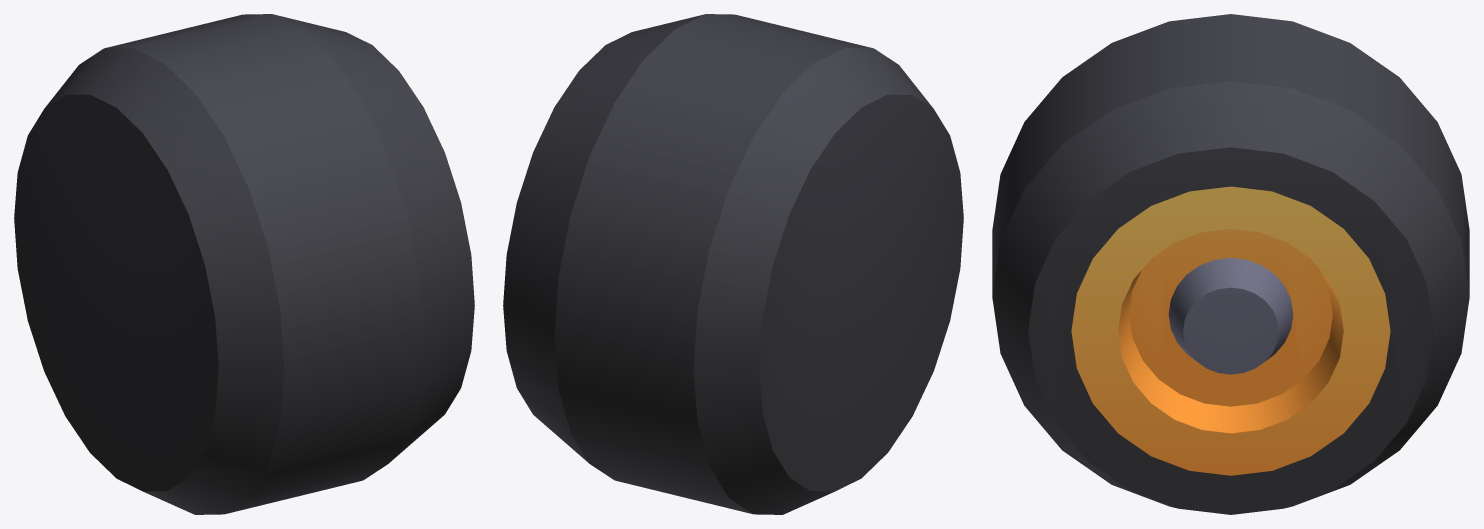
The model's file is wheel-tractor-back.glb.
3 renders of one model, left to right at view 1: azimuth 30°, elevation 25°; view 2: azimuth 150°, elevation 25°; view 3: azimuth 270°, elevation 25°, orthographic.
Parts seen in each view (by area): view 1: wheel-tractor-back; view 2: wheel-tractor-back; view 3: wheel-tractor-back.
Boxes of the visible parts, x1,y1,x2,y2 form: wheel-tractor-back: (14,14,474,514); wheel-tractor-back: (503,14,963,514); wheel-tractor-back: (992,14,1469,514).
Size of the model in its own units: 0.5376 by 0.8752 by 0.8752.
Materials: 1 (1 with a texture image).
